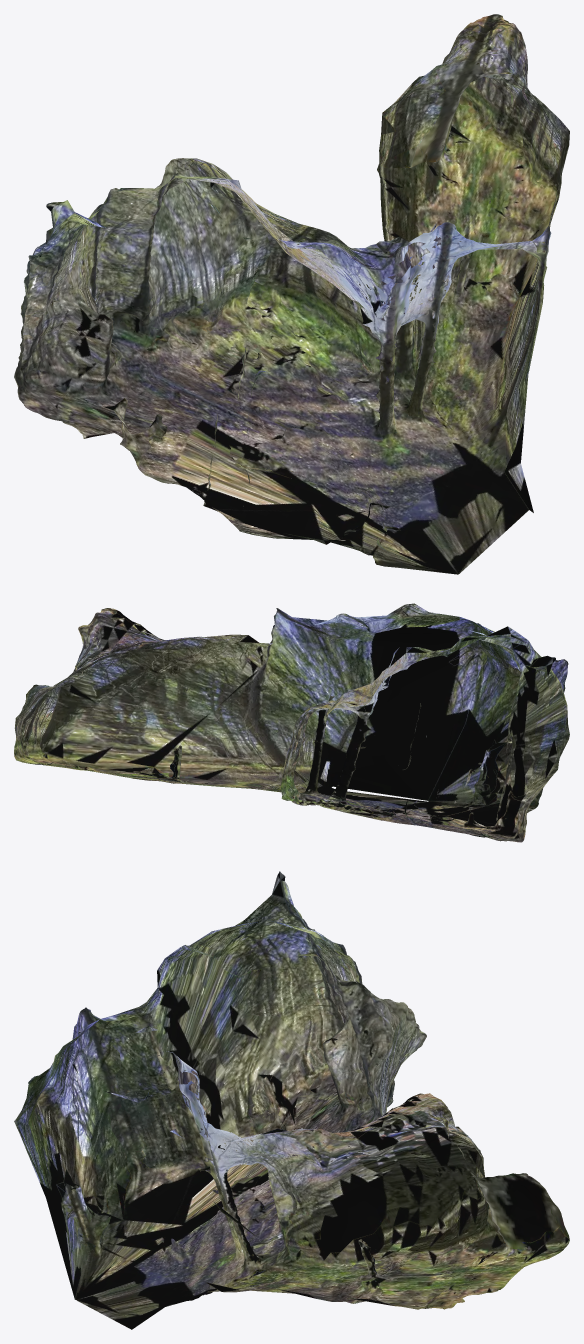
File: compressed_1741867232418_forest_environnement.glb
3 views of the same model, one above another, from view 1: azimuth 30°, elevation 25°; view 2: azimuth 150°, elevation 25°; view 3: azimuth 270°, elevation 25° (orthographic). The views are drawn at different scales.
Parts seen in each view (by area): view 1: Object_2; view 2: Object_2; view 3: Object_2.
Boxes of the visible parts, <box> form: Object_2: <box>14,14,569,574</box>; Object_2: <box>14,603,569,842</box>; Object_2: <box>14,871,569,1329</box>.
Bounding box in the file's own units: 17.35 × 9.54 × 15.7.
1 material, 1 textured.
